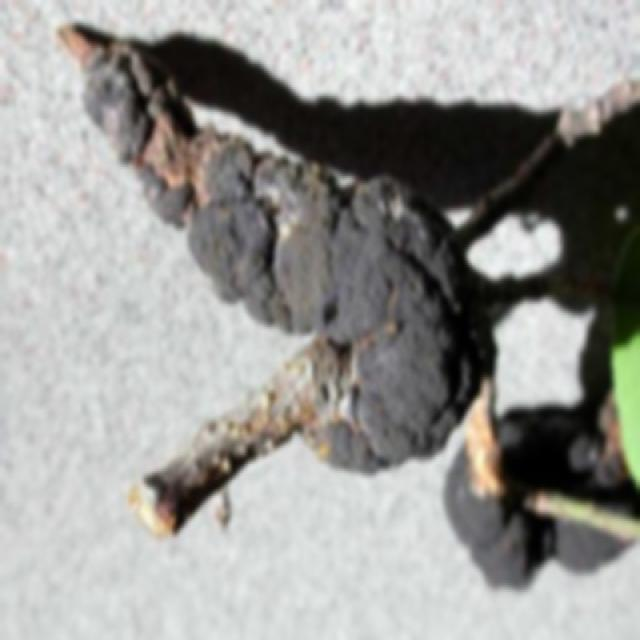Black_knot: (53, 16, 639, 578)
